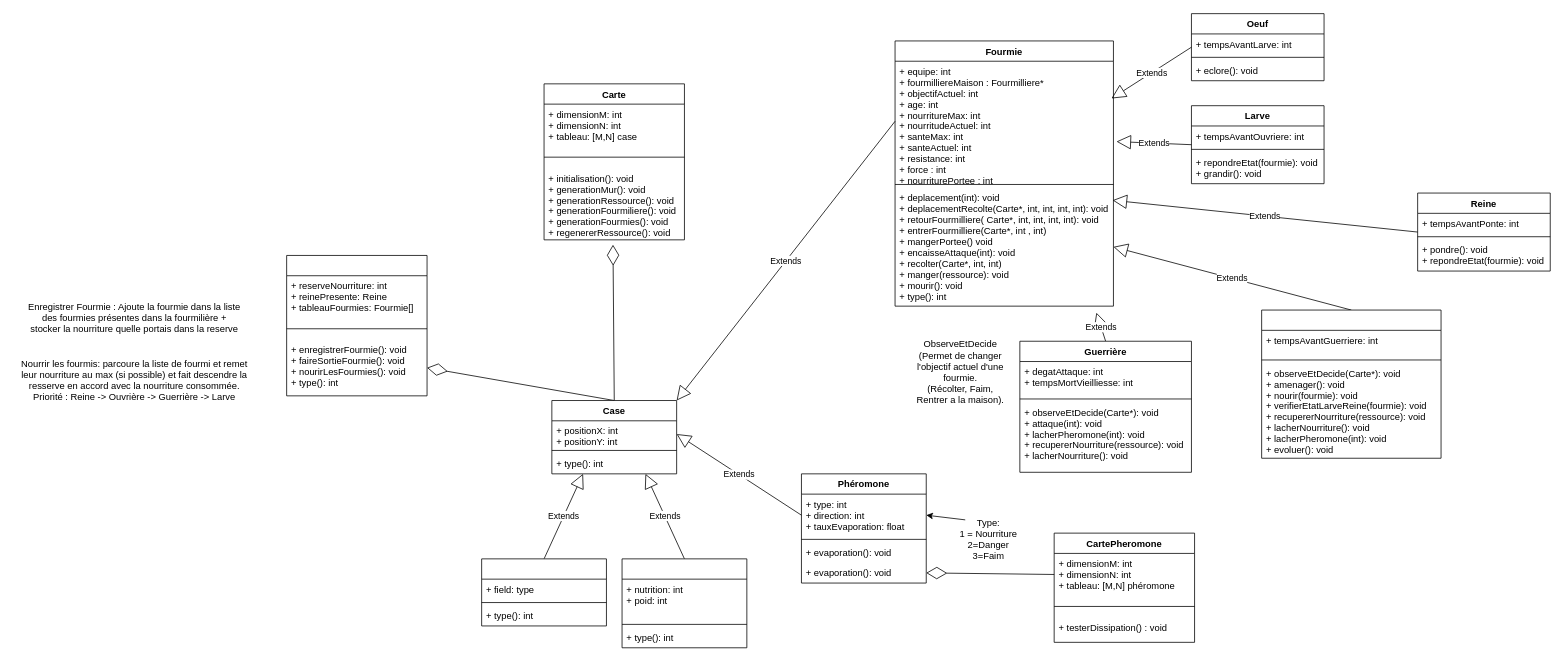
The diagram is 1564 pixels wide and 664 high, and some of its shapes have lost their labels. Each missing label, with the box of its shape:
Fourmiliere: (286, 255, 427, 396)
Obstacle: (481, 558, 606, 626)
Ouvrière: (1261, 309, 1441, 458)
Ressource/Nourriture: (621, 558, 747, 648)
